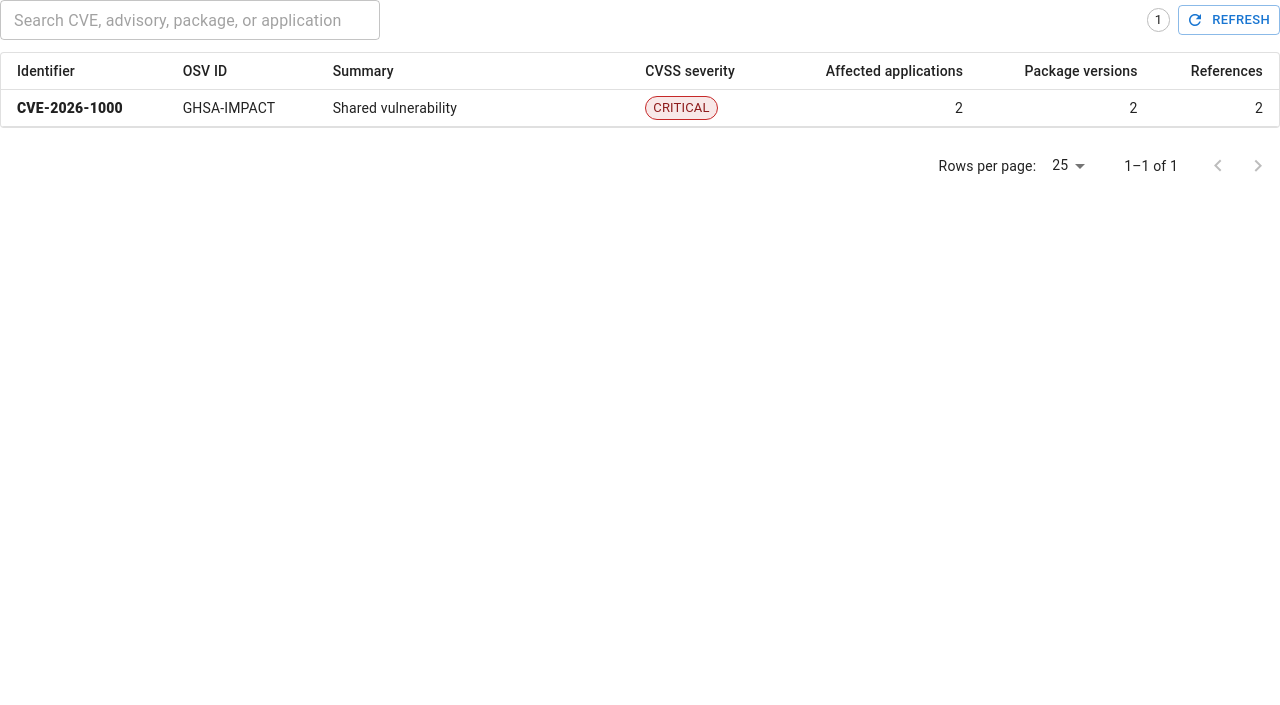
CveImpactView › renders safe clickable references and tolerates malformed values
Click the text "CVE-2026-1000": click(70, 108) x1=17 y1=100 x2=123 y2=116
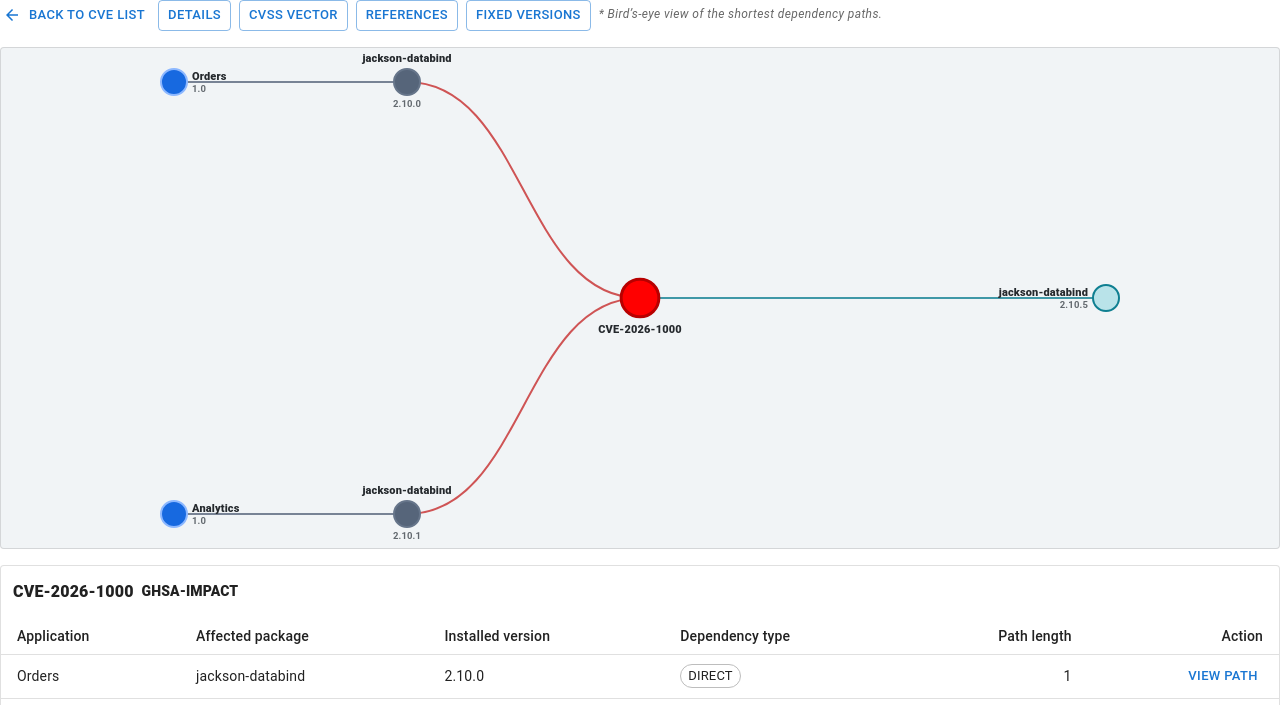
Check: the element named "CVE impact and fixes tree" is shown
Click the button "References": click(407, 15) x1=356 y1=0 x2=458 y2=31
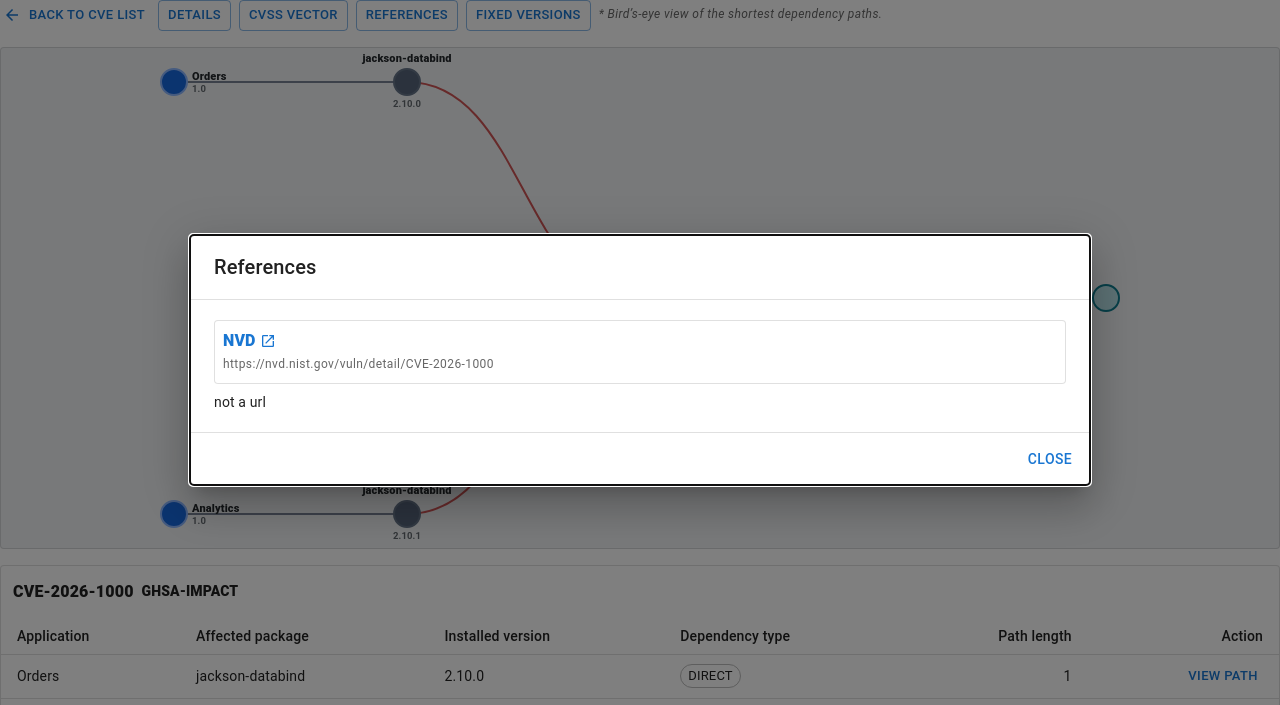
Check: the text "https://nvd.nist.gov/vuln/detail/CVE-2026-1000" is shown, box x1=223 y1=357 x2=494 y2=371
Check: the text "not a url" is shown, box x1=214 y1=394 x2=266 y2=410
